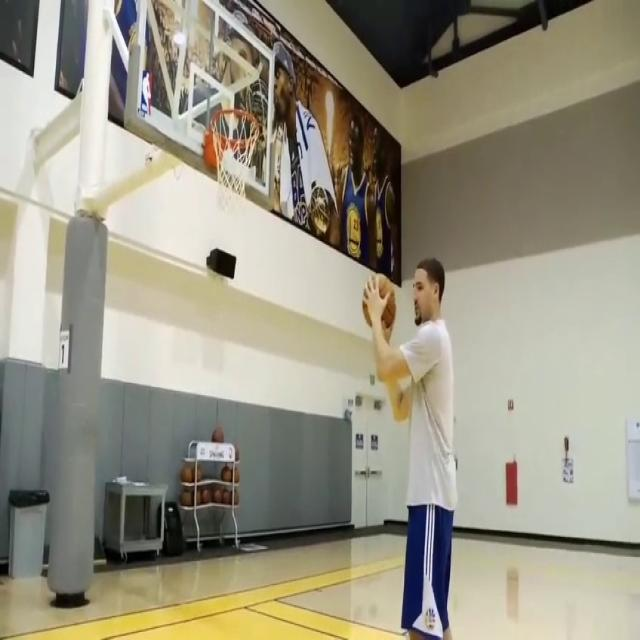ball: (362, 274, 396, 329), (223, 488, 240, 508), (179, 488, 195, 508), (180, 463, 194, 485), (210, 427, 225, 445), (195, 462, 207, 482), (193, 489, 206, 507), (213, 487, 225, 506), (220, 465, 232, 483), (204, 487, 216, 505), (230, 466, 240, 485)
